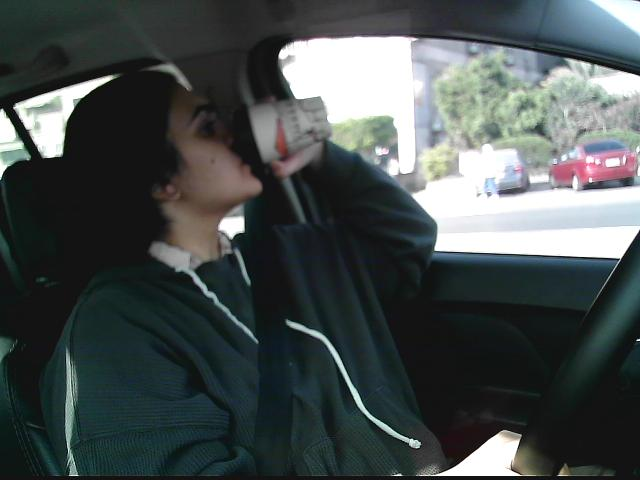Drinking: (231, 92, 334, 170)
